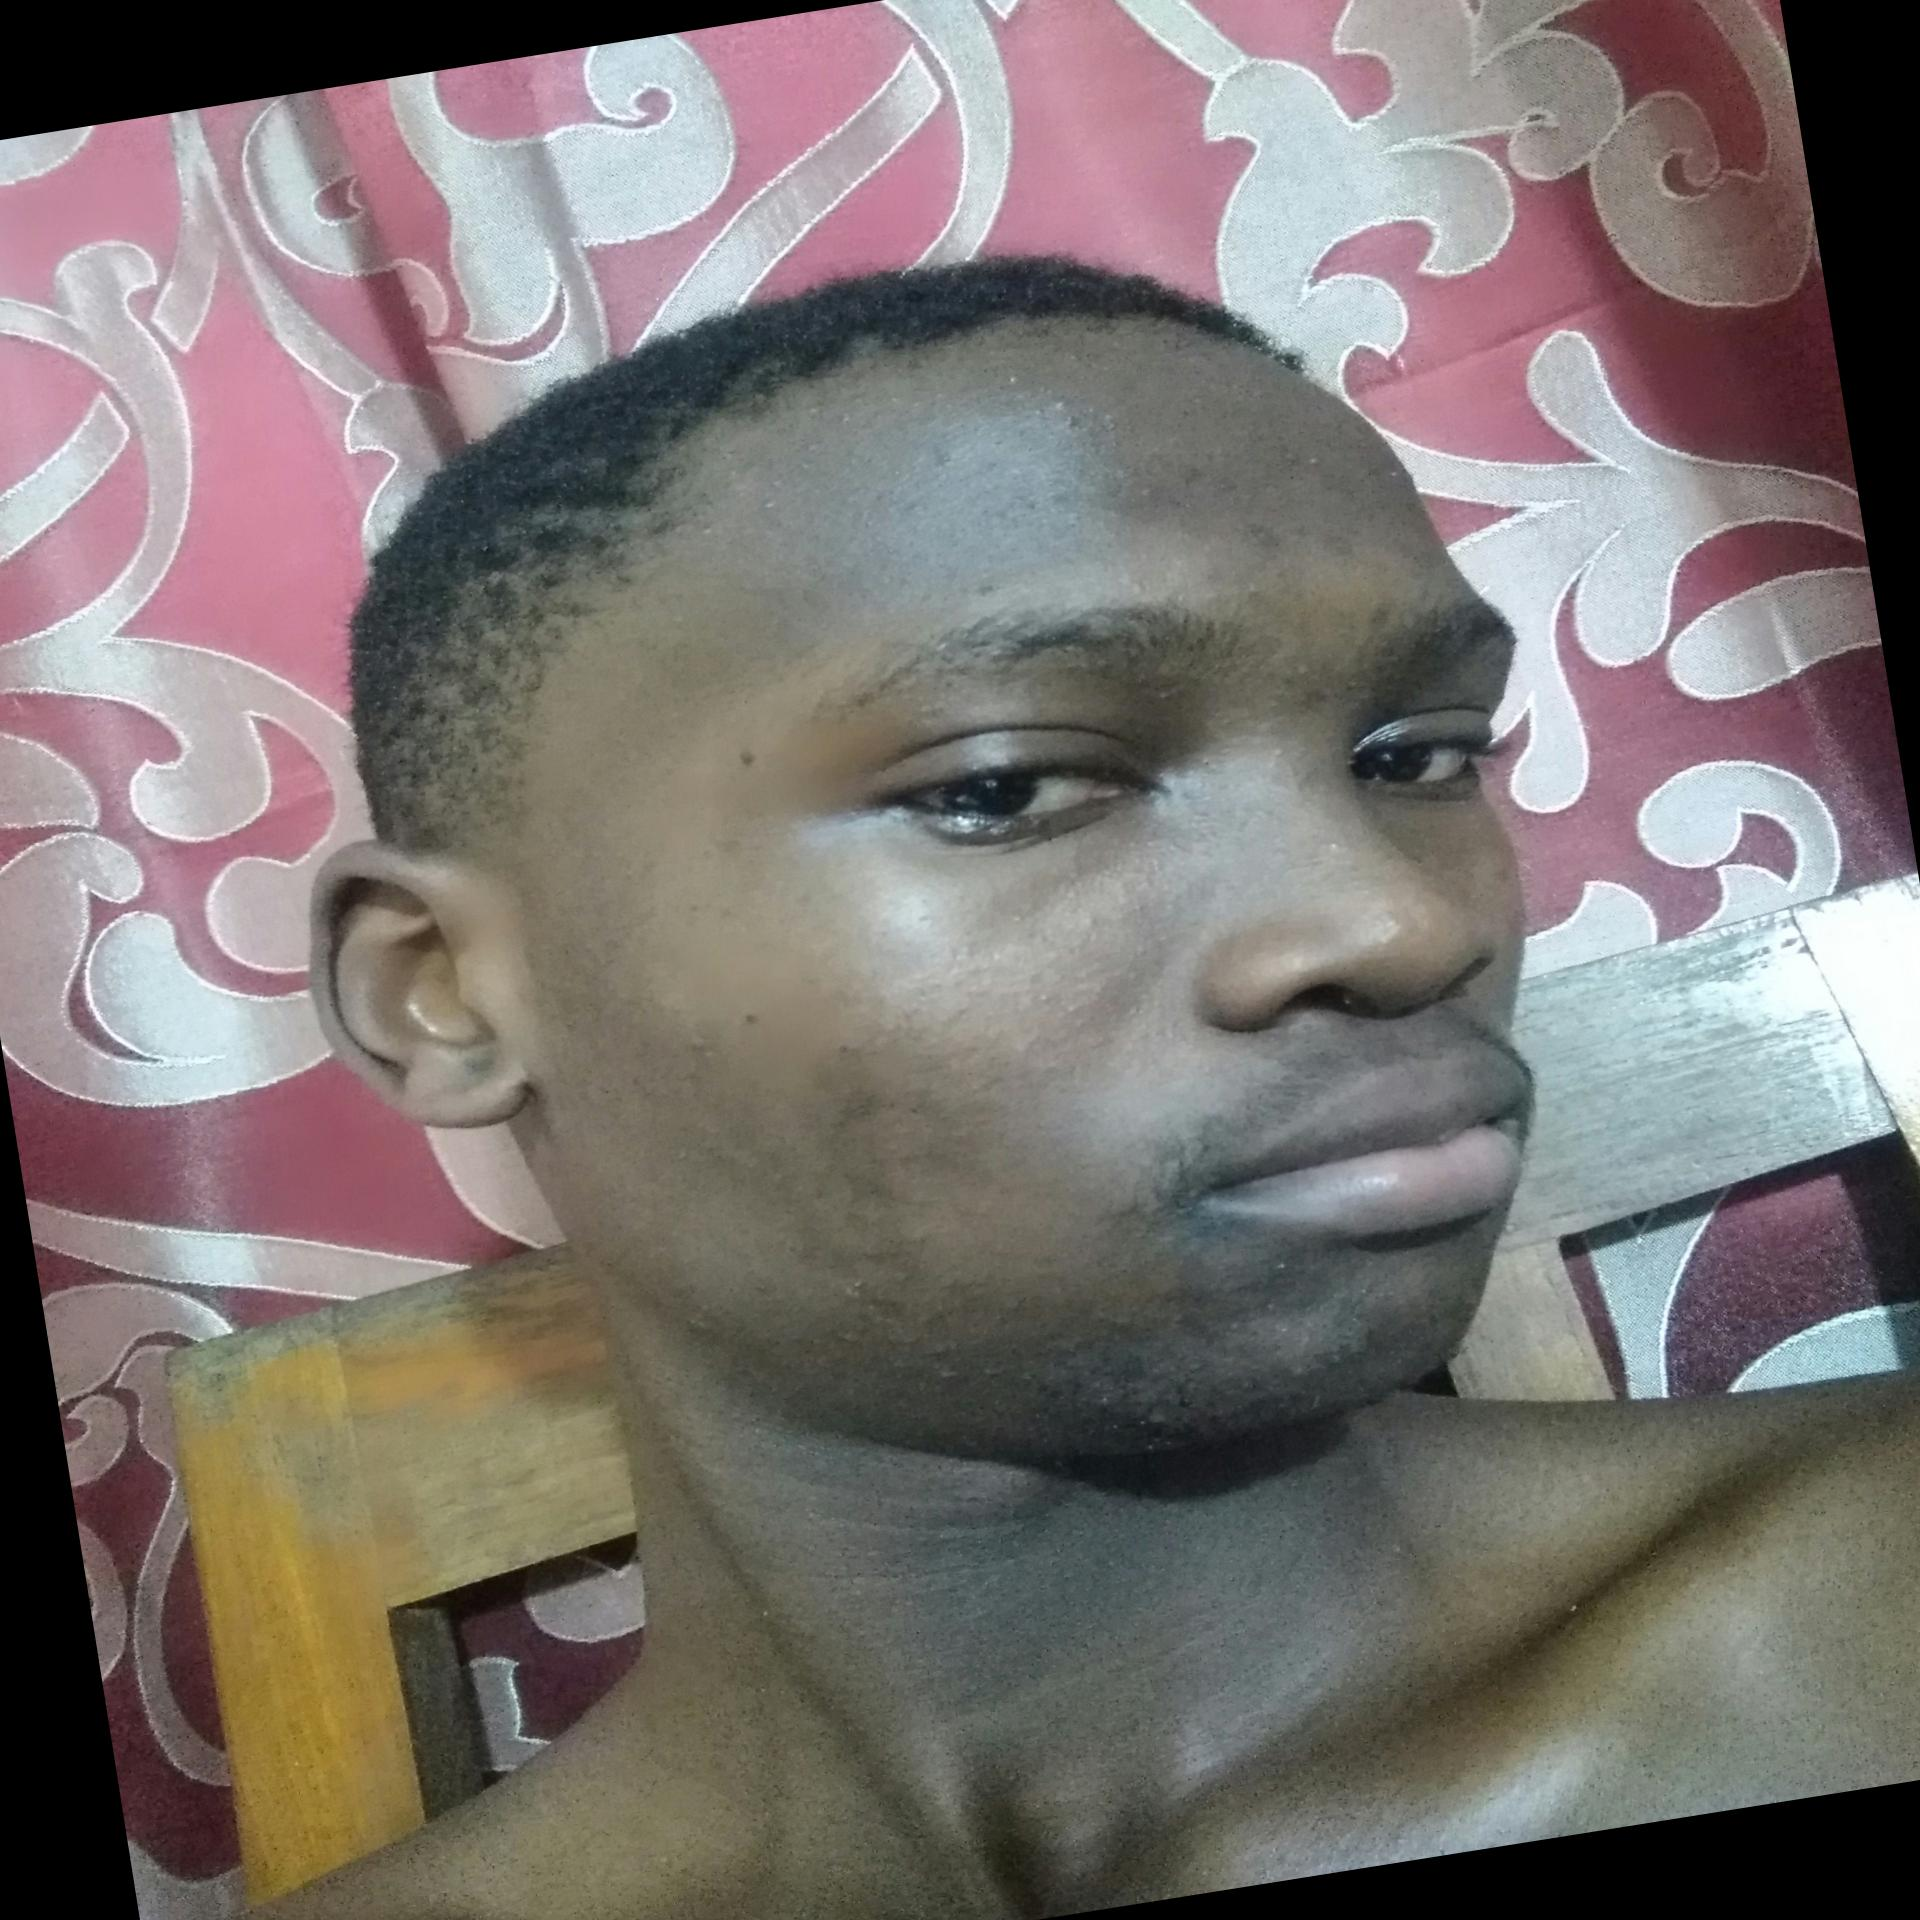Acne: (828, 1064, 890, 1138), (1167, 455, 1241, 505), (1236, 512, 1289, 563), (1048, 390, 1088, 440), (1317, 526, 1361, 570), (1357, 596, 1400, 640), (1315, 832, 1354, 869), (997, 366, 1037, 399), (1294, 682, 1331, 717), (1484, 858, 1517, 895), (751, 487, 788, 520), (932, 447, 964, 478), (1030, 986, 1064, 1016), (1074, 904, 1102, 934), (830, 404, 862, 429), (1132, 482, 1160, 501)
